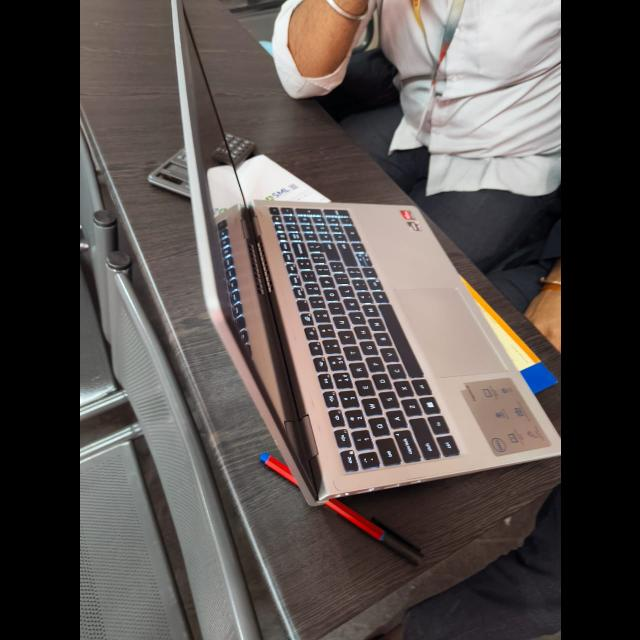laptop: (134, 16, 560, 508)
